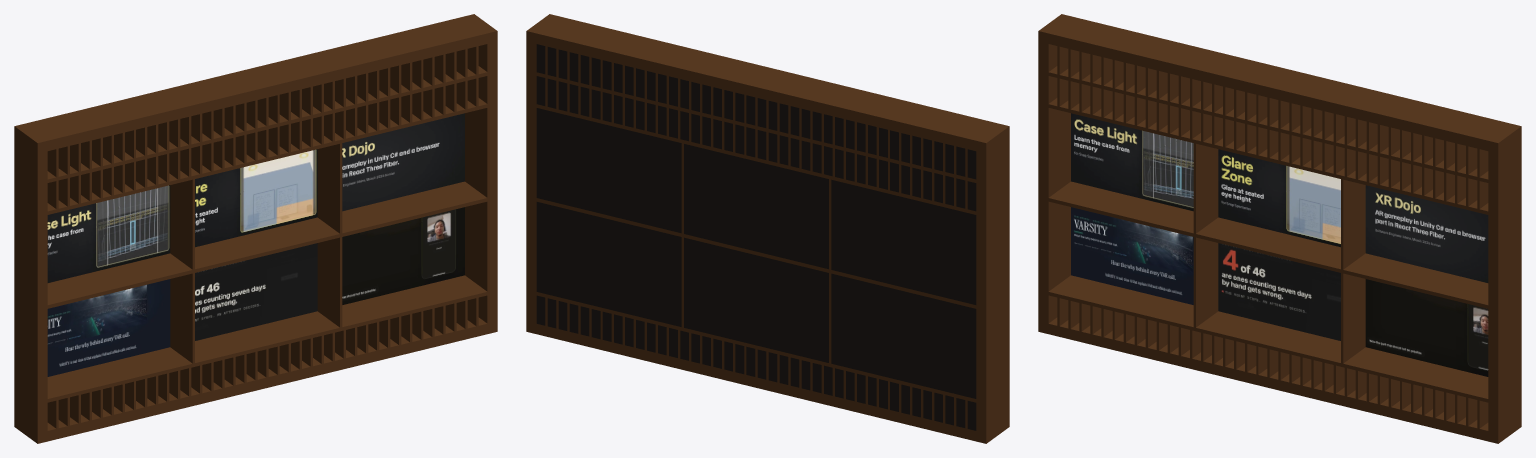
File: case.glb
The picture shows the model from 3 angles, left to right: view 1: azimuth 30°, elevation 25°; view 2: azimuth 150°, elevation 25°; view 3: azimuth 330°, elevation 25°; orthographic projection.
Visible parts, largest first — view 1: case-wood, poster-varsity, poster-case-light, poster-aloud, poster-glare-zone, poster-xr-dojo, poster-instanter; view 2: case-backs, case-wood; view 3: case-wood, poster-aloud, poster-xr-dojo, poster-case-light, poster-glare-zone, poster-varsity, poster-instanter.
Boxes of the visible parts, x1,y1,x2,y2 form: case-wood: [14, 14, 497, 443]; poster-varsity: [47, 279, 170, 376]; poster-case-light: [47, 185, 170, 282]; poster-aloud: [342, 207, 464, 304]; poster-glare-zone: [195, 149, 317, 247]; poster-xr-dojo: [342, 113, 464, 211]; poster-instanter: [195, 243, 317, 340]; case-backs: [536, 44, 976, 430]; case-wood: [526, 14, 1009, 443]; case-wood: [1038, 14, 1521, 443]; poster-aloud: [1365, 279, 1488, 376]; poster-xr-dojo: [1365, 185, 1488, 282]; poster-case-light: [1071, 113, 1193, 211]; poster-glare-zone: [1218, 149, 1340, 247]; poster-varsity: [1071, 207, 1193, 304]; poster-instanter: [1218, 243, 1340, 340].
Bounding box in the file's own units: 1.6 × 1 × 0.14.
Materials: 8 (6 with a texture image).
